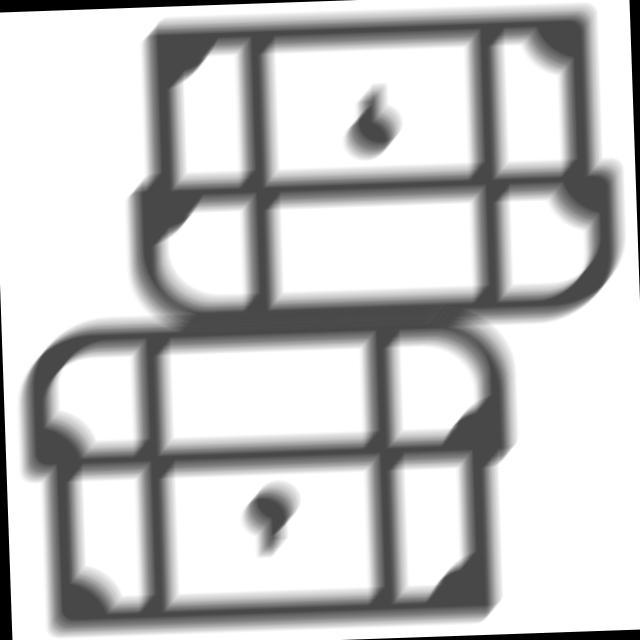treasure_box: (106, 1, 632, 349), (2, 302, 531, 640)
